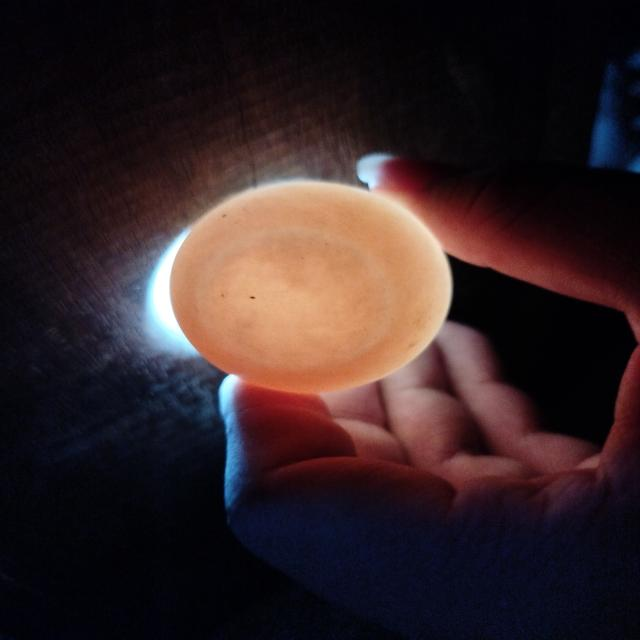Camara de Ar: (200, 228, 393, 371)
